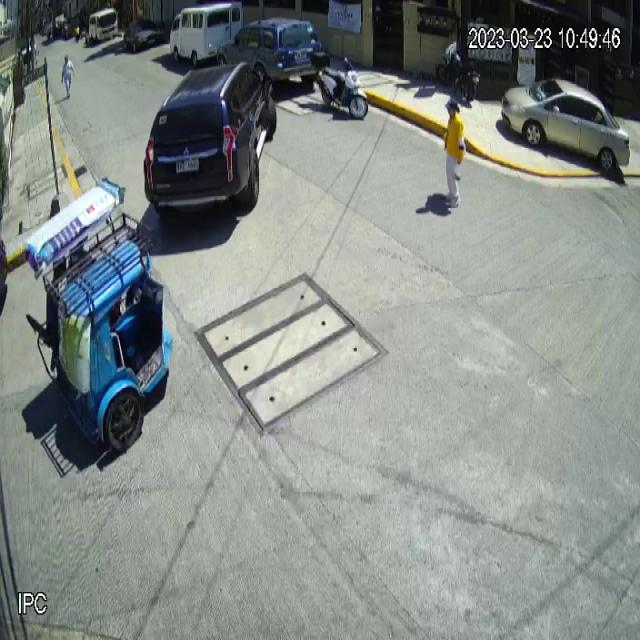Car: (142, 59, 279, 218), (501, 76, 631, 171), (219, 15, 325, 94)
Motorcycle: (312, 48, 369, 120)
Tricycle: (26, 179, 176, 454)
Van: (170, 1, 245, 67)
